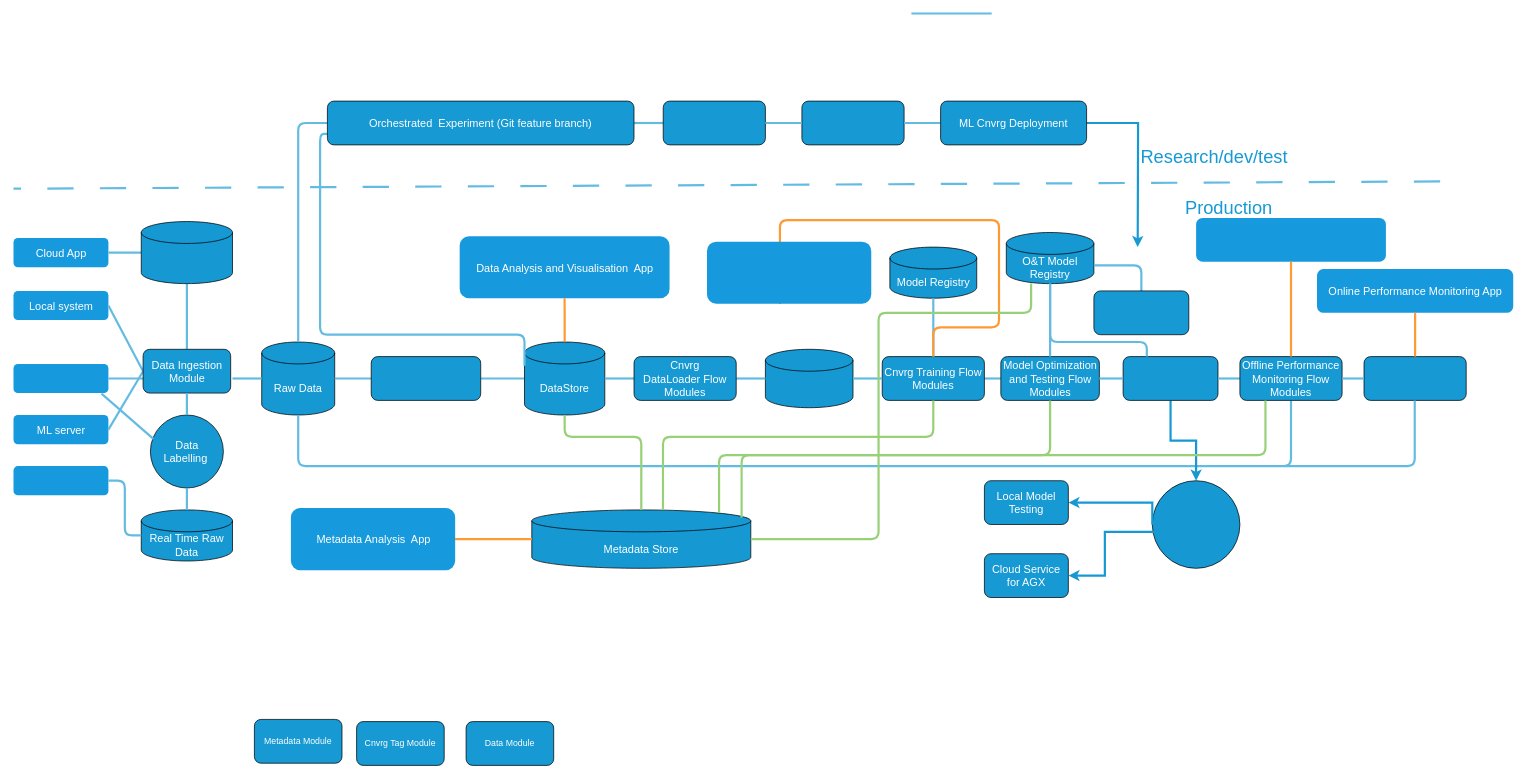
The diagram is 1526 pixels wide and 778 high, and some of its shapes have lost their labels. The centre of each missing label's shape, as x and y in pixels:
App Raw Data: the point at 187,252
CI/ CD Testing or Merge Request: the point at 713,122
Cnvrg DataStore ETL Flow Modules: the point at 425,378
DataloaderStore: the point at 809,378
Deployment Flow Modules: the point at 1170,378
Inference End point: the point at 1196,524
Model and Result Analysis App: the point at 789,272
Offline Performance Monitoring App: the point at 1291,239
Online Performance Monitoring Flow Modules: the point at 1414,378
Real Time: the point at 60,480
Remote system: the point at 60,378
Software Testing Module: the point at 1141,312
Source Repository (Git Main Branch): the point at 852,122
